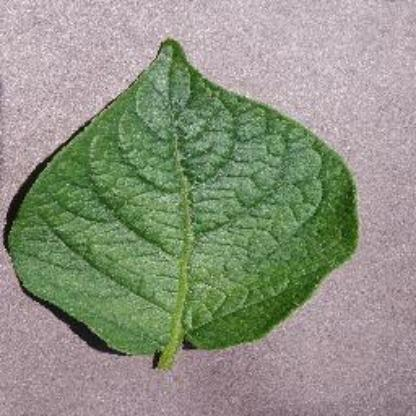Healthy-plant: (5, 38, 364, 374)
